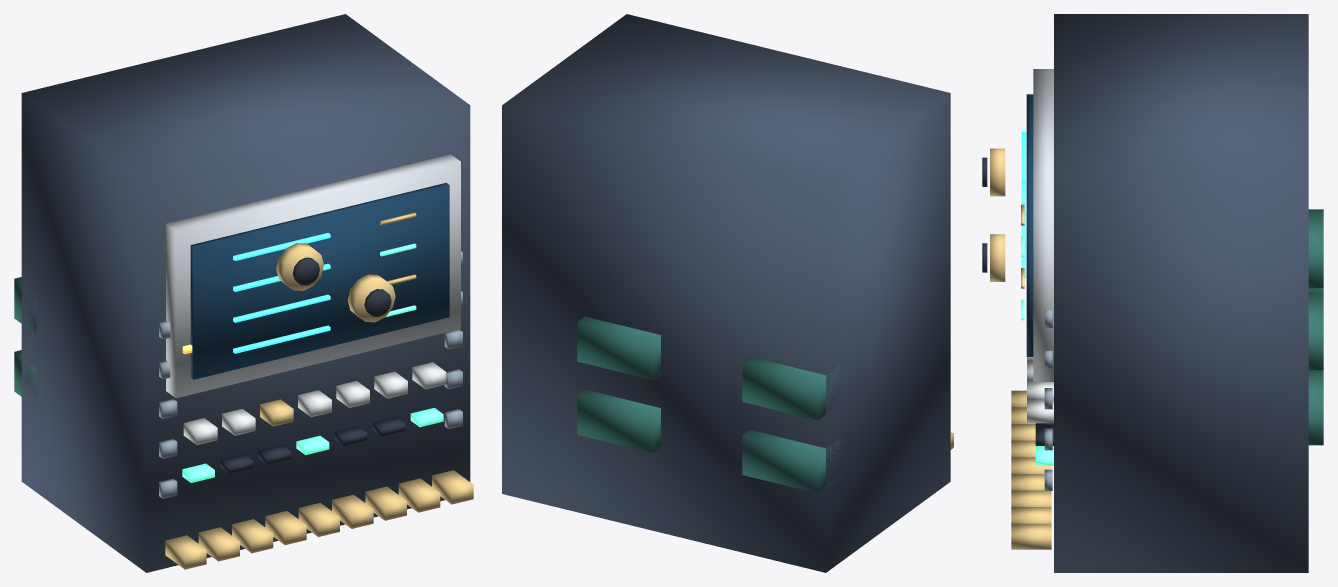
File: 90_L91_OpticalStarTrackerCrosscheck.glb
The picture shows the model from 3 angles, left to right: view 1: azimuth 30°, elevation 25°; view 2: azimuth 150°, elevation 25°; view 3: azimuth 270°, elevation 25°; orthographic projection. The views are drawn at different scales.
Parts seen in each view (by area): view 1: L91_OpticalStarTrackerCrossch_Part_0000, L91_OpticalStarTrackerCrossch_Part_0002, L91_OpticalStarTrackerCrossch_Part_0001, L91_OpticalStarTrackerCrossch_Part_0004, L91_OpticalStarTrackerCrossch_Part_0006, L91_OpticalStarTrackerCrossch_Part_0008, L91_OpticalStarTrackerCrossch_Part_0003, L91_OpticalStarTrackerCrossch_Part_0007, L91_OpticalStarTrackerCrossch_Part_0005, L91_OpticalStarTrackerCrossch_Part_0013, L91_OpticalStarTrackerCrossch_Part_0011, L91_OpticalStarTrackerCrossch_Part_0009 (+2 smaller); view 2: L91_OpticalStarTrackerCrossch_Part_0000, L91_OpticalStarTrackerCrossch_Part_0009; view 3: L91_OpticalStarTrackerCrossch_Part_0000, L91_OpticalStarTrackerCrossch_Part_0001, L91_OpticalStarTrackerCrossch_Part_0004, L91_OpticalStarTrackerCrossch_Part_0009, L91_OpticalStarTrackerCrossch_Part_0002, L91_OpticalStarTrackerCrossch_Part_0006, L91_OpticalStarTrackerCrossch_Part_0008, L91_OpticalStarTrackerCrossch_Part_0011, L91_OpticalStarTrackerCrossch_Part_0013, L91_OpticalStarTrackerCrossch_Part_0003, L91_OpticalStarTrackerCrossch_Part_0005.
Boxes of the visible parts, left/top/right/bottom form: L91_OpticalStarTrackerCrossch_Part_0000: left=21, top=14, right=470, bottom=572; L91_OpticalStarTrackerCrossch_Part_0002: left=190, top=183, right=449, bottom=379; L91_OpticalStarTrackerCrossch_Part_0001: left=166, top=154, right=460, bottom=398; L91_OpticalStarTrackerCrossch_Part_0004: left=165, top=212, right=473, bottom=569; L91_OpticalStarTrackerCrossch_Part_0006: left=183, top=362, right=446, bottom=445; L91_OpticalStarTrackerCrossch_Part_0008: left=159, top=251, right=462, bottom=498; L91_OpticalStarTrackerCrossch_Part_0003: left=233, top=233, right=330, bottom=353; L91_OpticalStarTrackerCrossch_Part_0007: left=220, top=417, right=405, bottom=473; L91_OpticalStarTrackerCrossch_Part_0005: left=182, top=243, right=443, bottom=482; L91_OpticalStarTrackerCrossch_Part_0013: left=347, top=274, right=395, bottom=322; L91_OpticalStarTrackerCrossch_Part_0011: left=276, top=243, right=323, bottom=290; L91_OpticalStarTrackerCrossch_Part_0009: left=14, top=277, right=36, bottom=400; L91_OpticalStarTrackerCrossch_Part_0000: left=502, top=14, right=950, bottom=572; L91_OpticalStarTrackerCrossch_Part_0009: left=577, top=316, right=840, bottom=493; L91_OpticalStarTrackerCrossch_Part_0000: left=1054, top=14, right=1308, bottom=572; L91_OpticalStarTrackerCrossch_Part_0001: left=1033, top=69, right=1053, bottom=381; L91_OpticalStarTrackerCrossch_Part_0004: left=1011, top=204, right=1051, bottom=549; L91_OpticalStarTrackerCrossch_Part_0009: left=1308, top=209, right=1323, bottom=445; L91_OpticalStarTrackerCrossch_Part_0002: left=1026, top=94, right=1033, bottom=356; L91_OpticalStarTrackerCrossch_Part_0006: left=1027, top=357, right=1053, bottom=423; L91_OpticalStarTrackerCrossch_Part_0008: left=1044, top=310, right=1052, bottom=490; L91_OpticalStarTrackerCrossch_Part_0011: left=990, top=148, right=1005, bottom=196; L91_OpticalStarTrackerCrossch_Part_0013: left=990, top=234, right=1005, bottom=281; L91_OpticalStarTrackerCrossch_Part_0003: left=1021, top=131, right=1026, bottom=277; L91_OpticalStarTrackerCrossch_Part_0005: left=1021, top=236, right=1053, bottom=465.
Bounding box in the file's own units: 1.04 × 1.19 × 0.9296.
